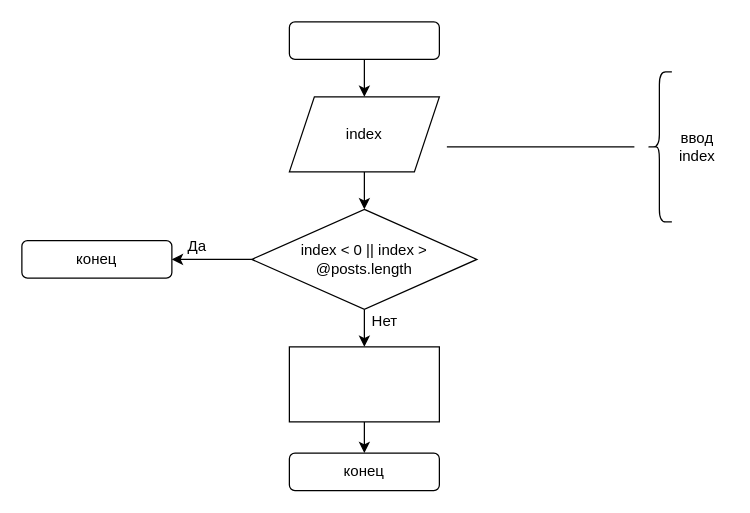
The diagram is 750 pixels wide and 513 high, and some of its shapes have lost their labels. Here are the shapes that lost their labels. From the top down, the centre of each, then its label:
At [363,40]: "начало".
At [363,384]: "@posts.delete_at (index)".
